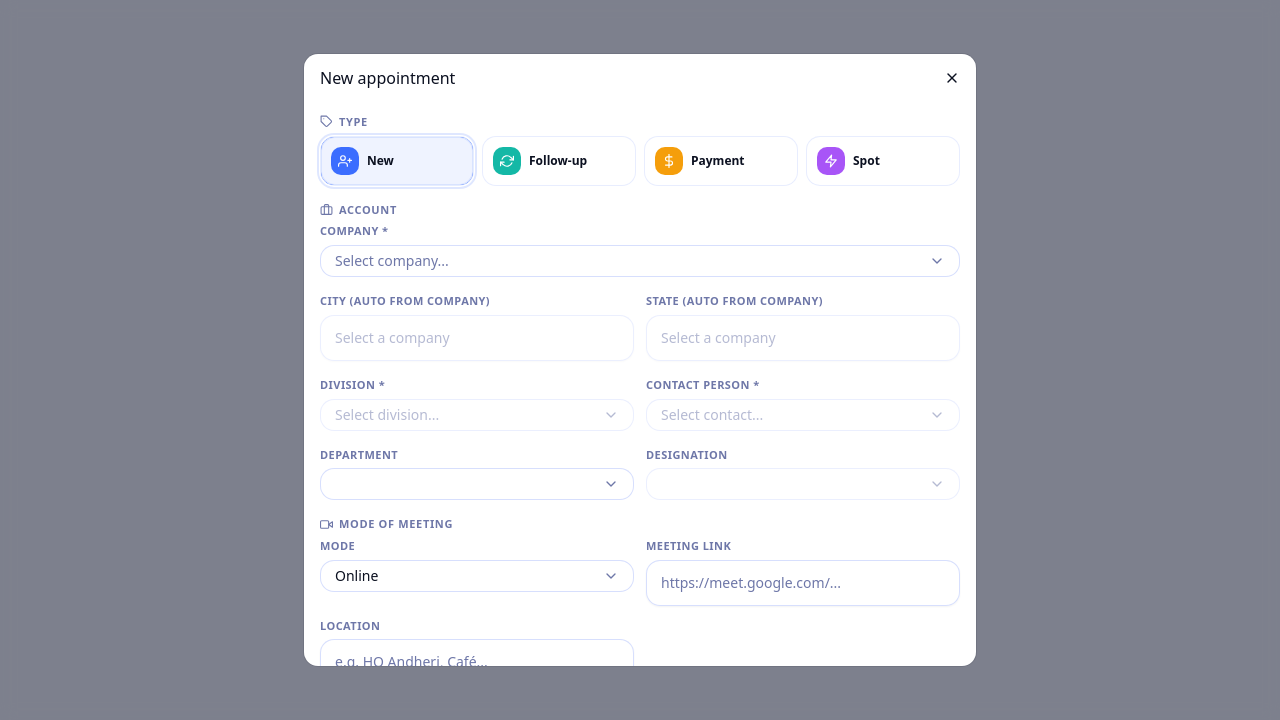
Test: NewAppointmentDialog — Department/Designation auto-fill from the selected contact › fills Department/Designation from the selected contact's own record
What coordinates should you click on to do the following:
click the text "Select company..."
I would click on:
 (392, 261)
Its box is [335,251,449,270].
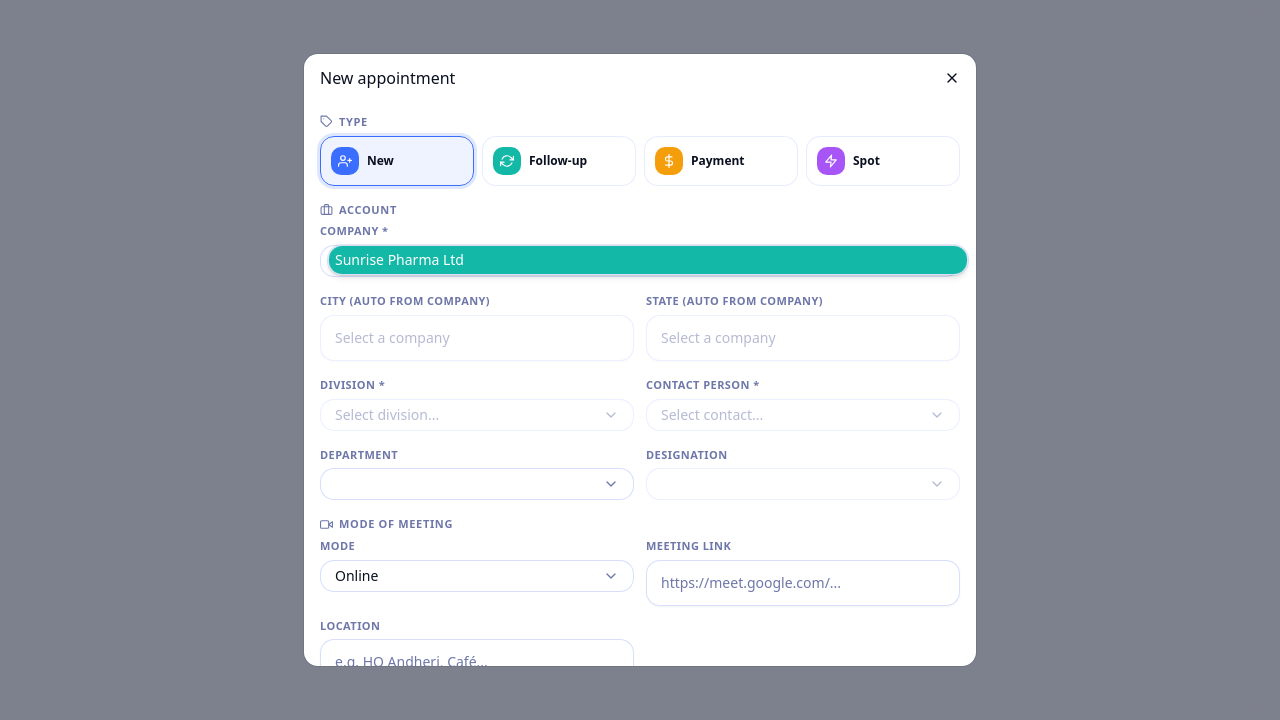
What coordinates should you click on to do the following:
click the option "Sunrise Pharma Ltd"
I would click on:
 (399, 260)
Its box is [329,246,967,274].
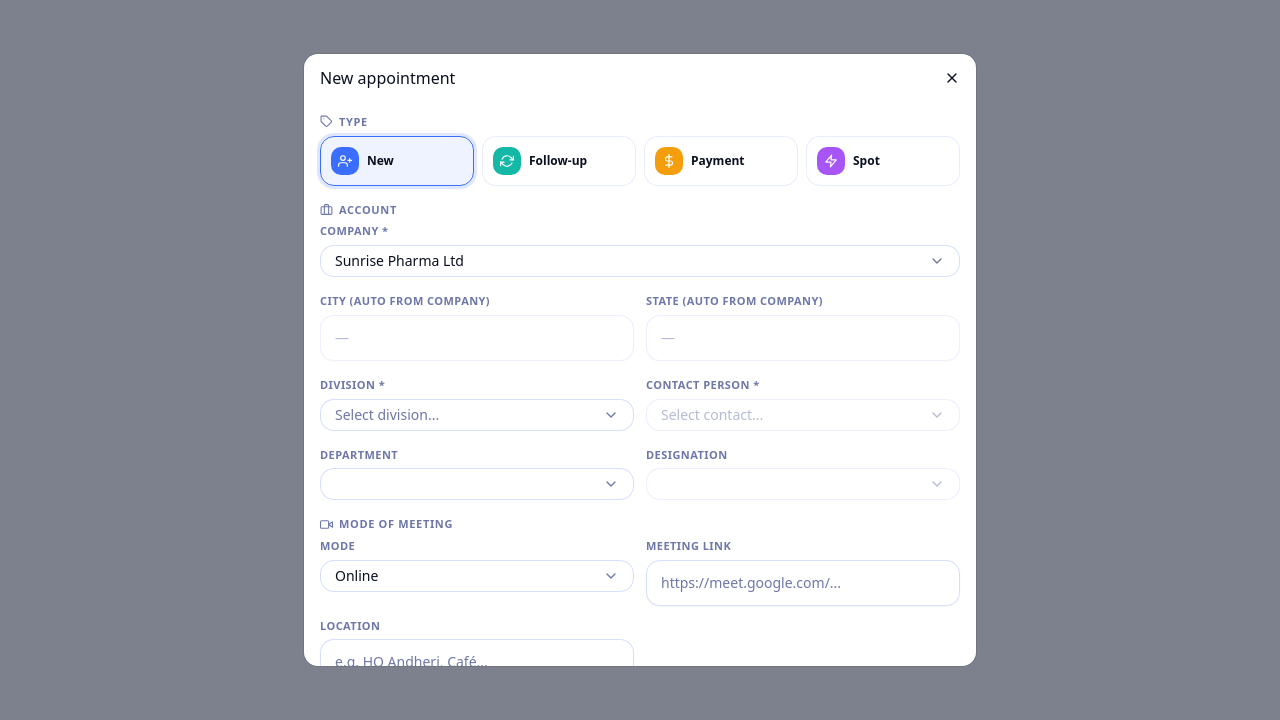
What coordinates should you click on to do the following:
click the text "Select division..."
I would click on:
 (387, 414)
Its box is [335,404,439,424].
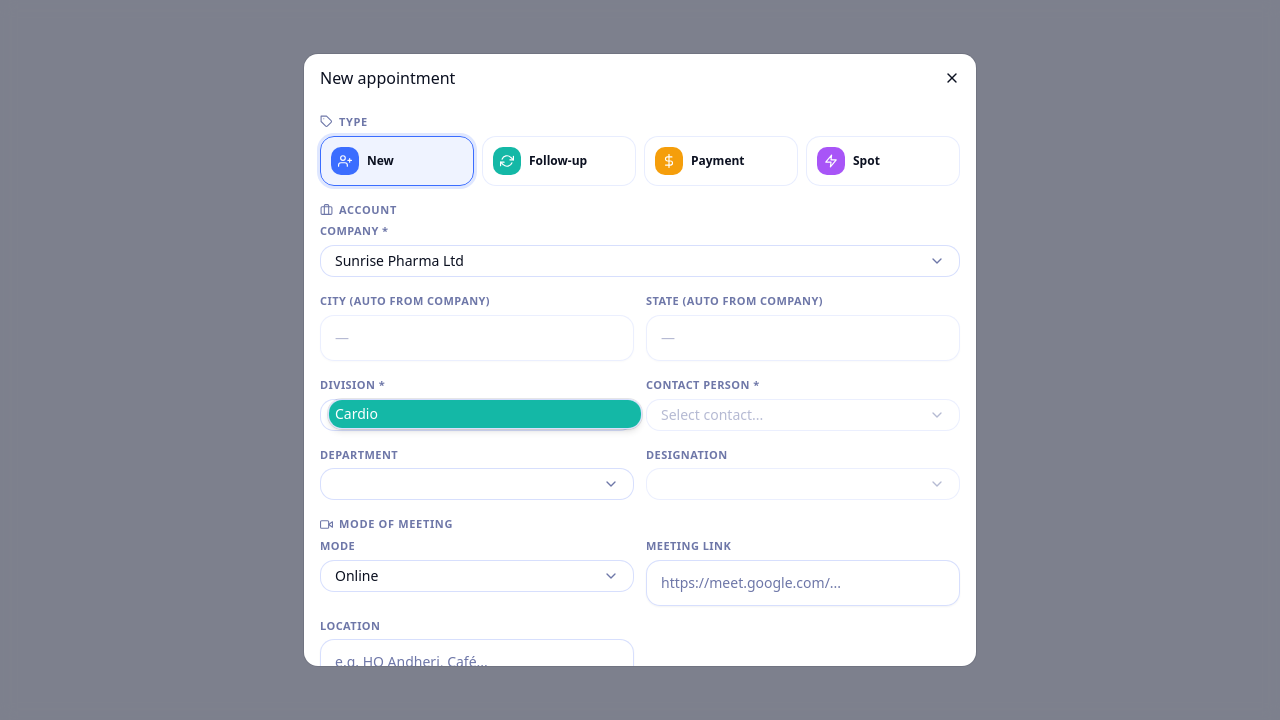
What coordinates should you click on to do the following:
click the option "Cardio"
I would click on:
 (356, 413)
Its box is [329,400,641,428].
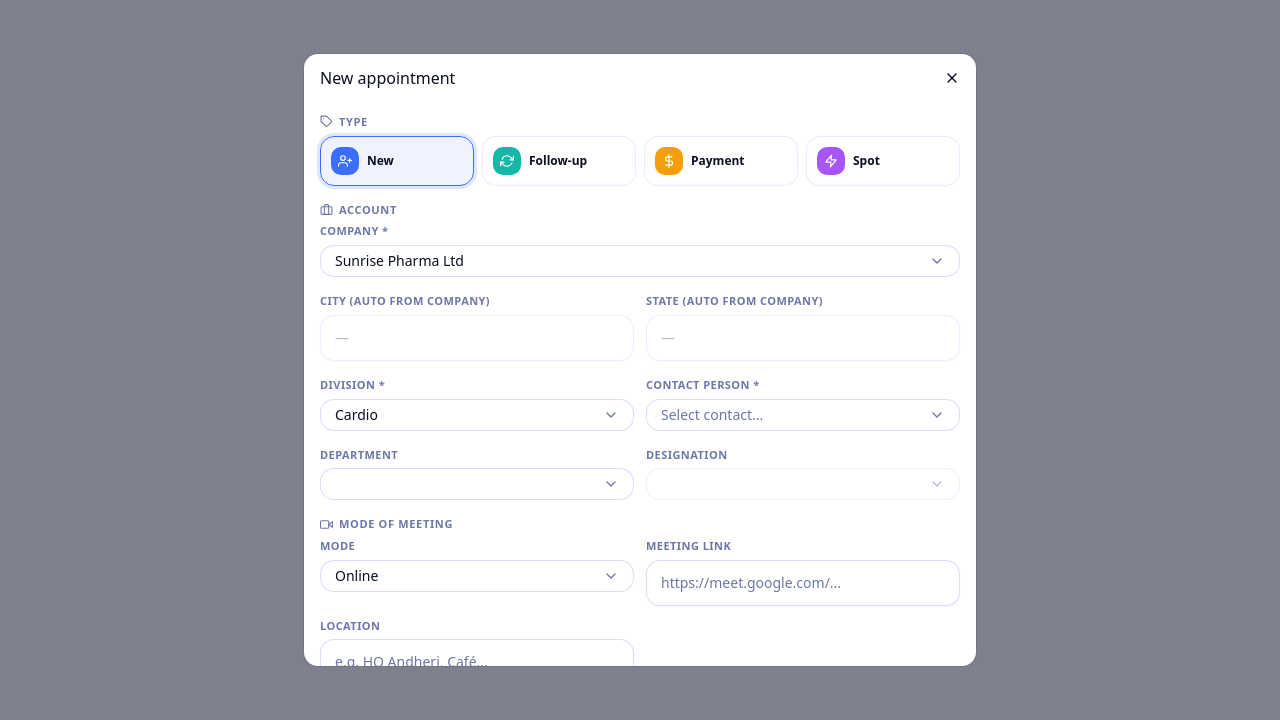
What coordinates should you click on to do the following:
click the text "Select contact..."
I would click on:
 (712, 414)
Its box is [661,404,763,424].
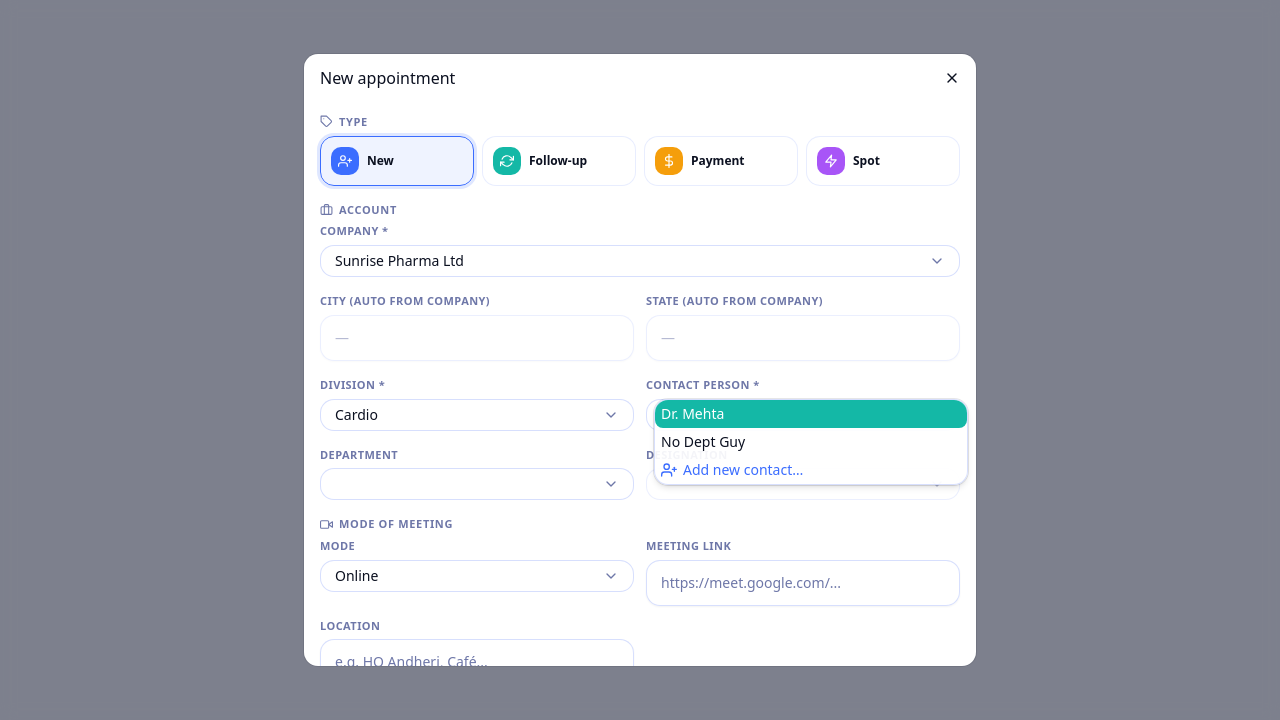
What coordinates should you click on to do the following:
click the option "Dr. Mehta"
I would click on:
 (693, 413)
Its box is [655,400,967,428].
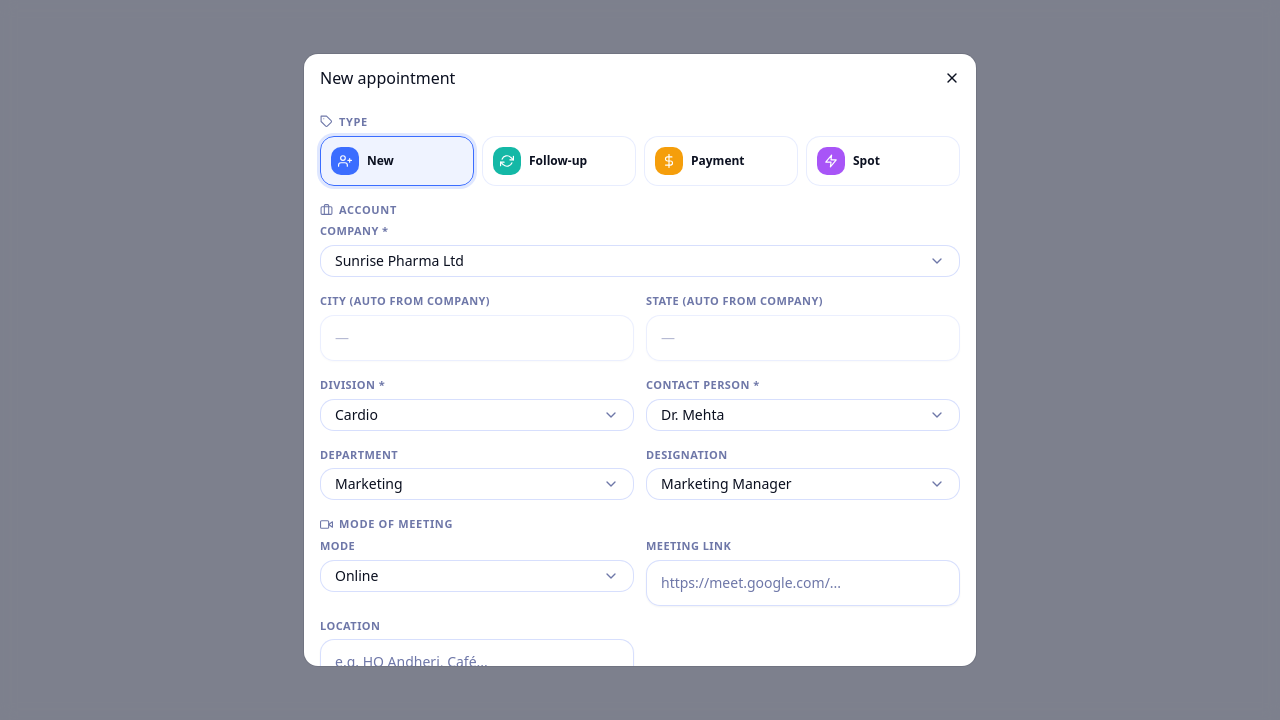
expect the text "Marketing" is shown: met, box [335,474,403,493]
expect the text "Marketing Manager" is shown: met, box [661,474,792,493]
